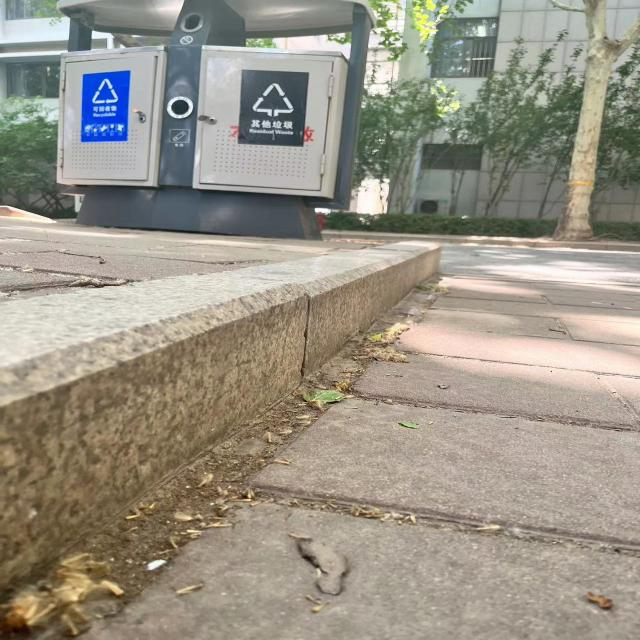curb: (1, 238, 427, 606)
